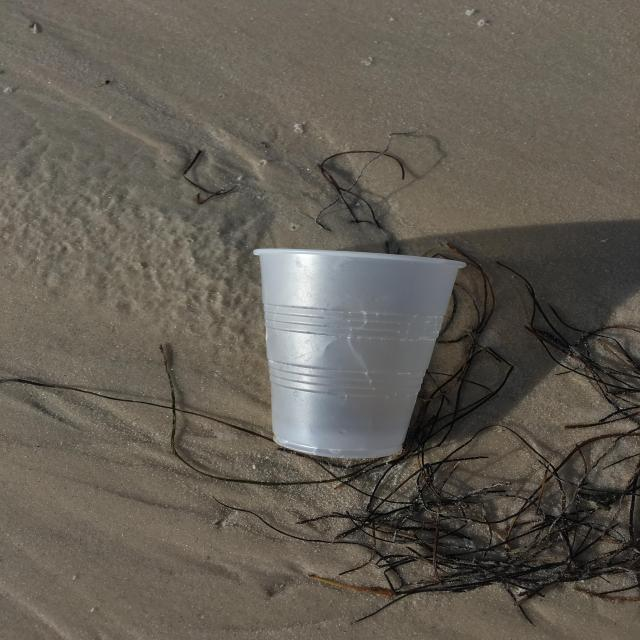litter: (257, 252, 468, 462)
